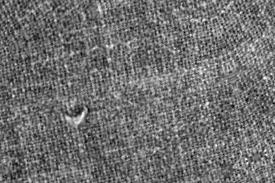snag: (58, 104, 94, 127)
